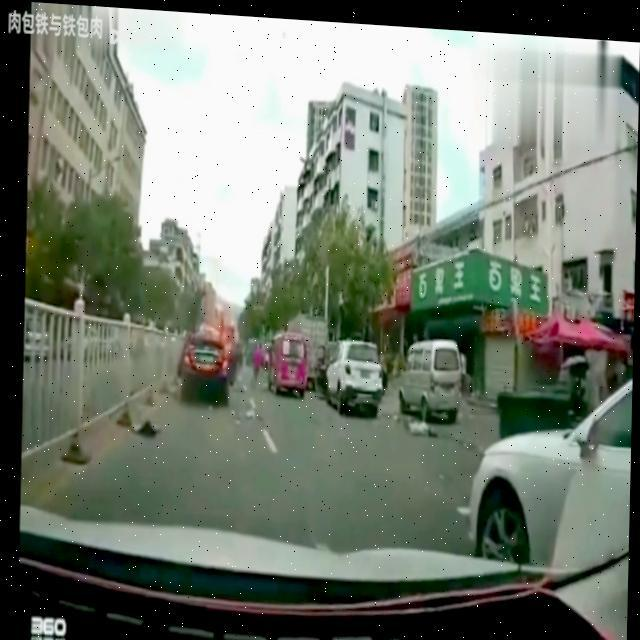multiple_accident: (163, 247, 385, 425)
